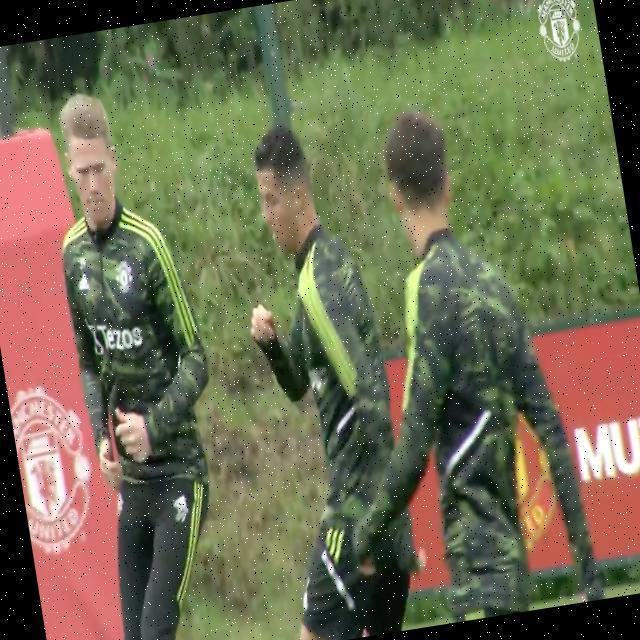Adidas: (173, 493, 190, 511), (77, 274, 92, 294)
